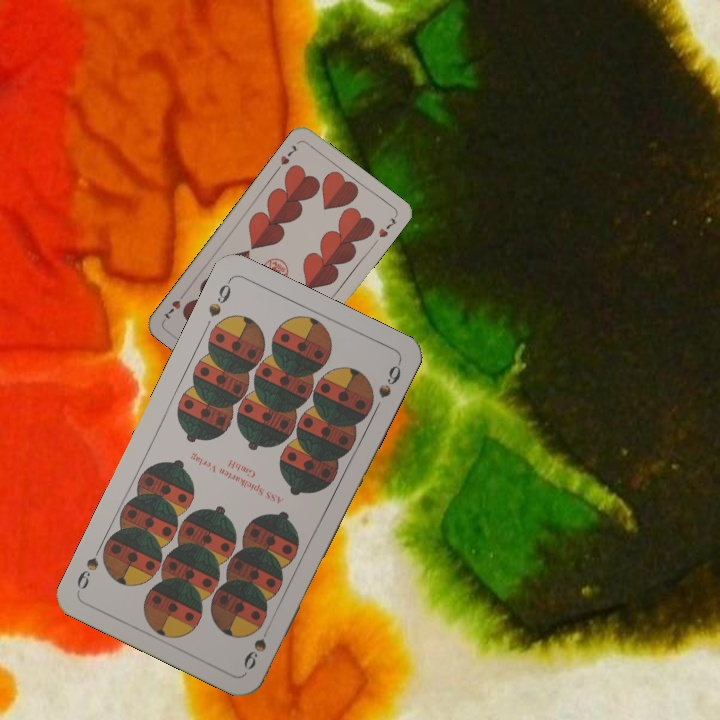H7: (276, 141, 301, 168)
S9: (239, 623, 272, 673), (204, 276, 234, 320)
